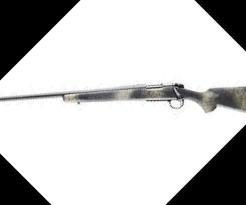larga: (0, 81, 246, 114)
